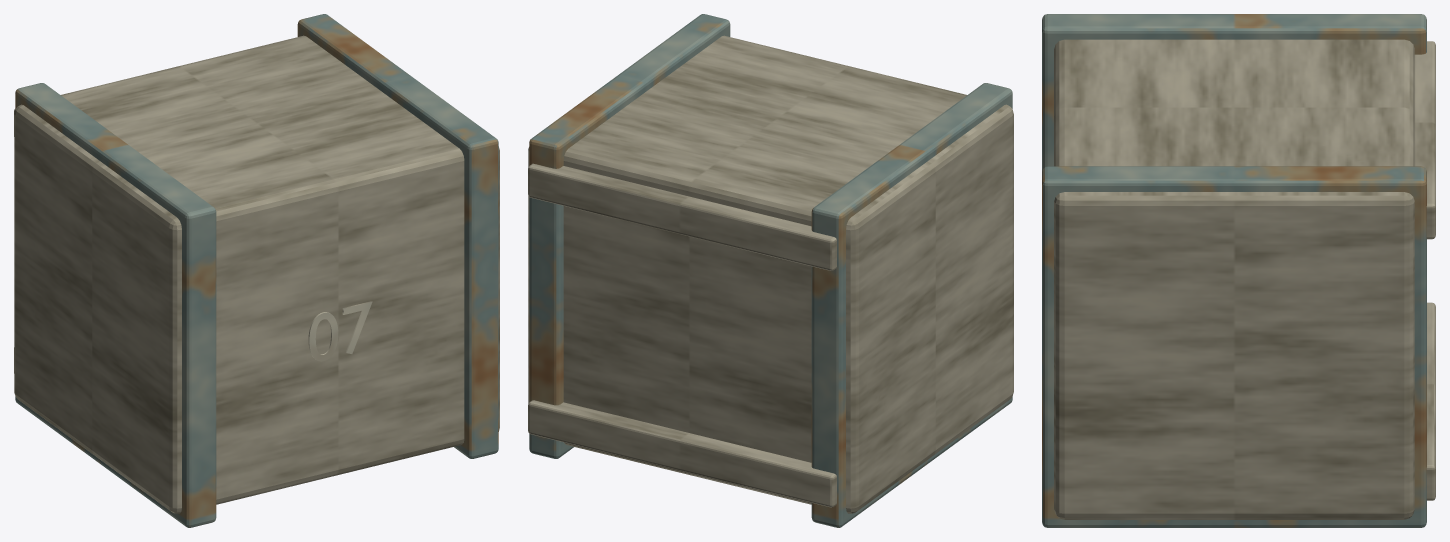
Rendered from Crate_Timber.glb.
3 views of the same model, side by side, from view 1: azimuth 30°, elevation 25°; view 2: azimuth 150°, elevation 25°; view 3: azimuth 270°, elevation 25° (orthographic). The views are drawn at different scales.
Visible parts, largest first — view 1: Crate_Timber; view 2: Crate_Timber; view 3: Crate_Timber.
Part boxes in pixels (<box>): Crate_Timber: <box>14,14,499,527</box>; Crate_Timber: <box>528,14,1013,527</box>; Crate_Timber: <box>1042,14,1435,527</box>.
Size of the model in its own units: 1.4 by 1.28 by 1.31.
Materials: 3 (3 with a texture image).
